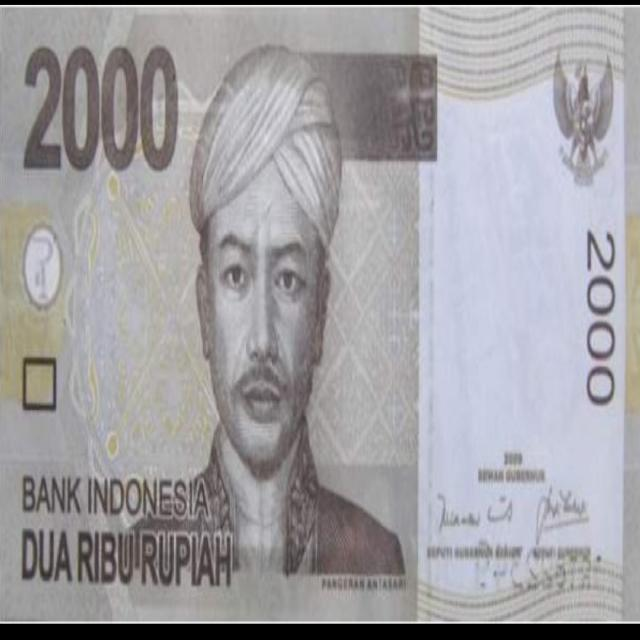dua ribu rupiah: (3, 5, 638, 622)
